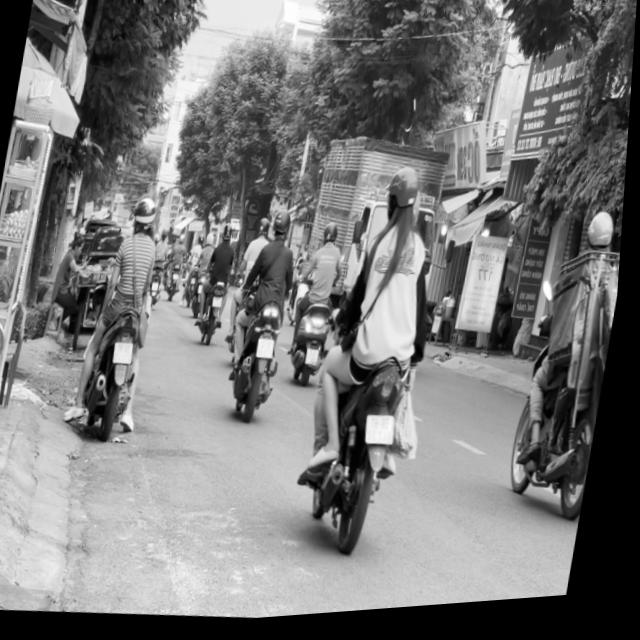helmet: (384, 168, 427, 233), (589, 216, 621, 260), (133, 195, 162, 236), (273, 208, 296, 243)
licenseplate: (293, 156, 466, 565), (505, 208, 627, 531), (71, 190, 178, 447), (221, 204, 311, 426)
nohelmet: (369, 418, 403, 451), (117, 342, 138, 364), (260, 340, 279, 362)
